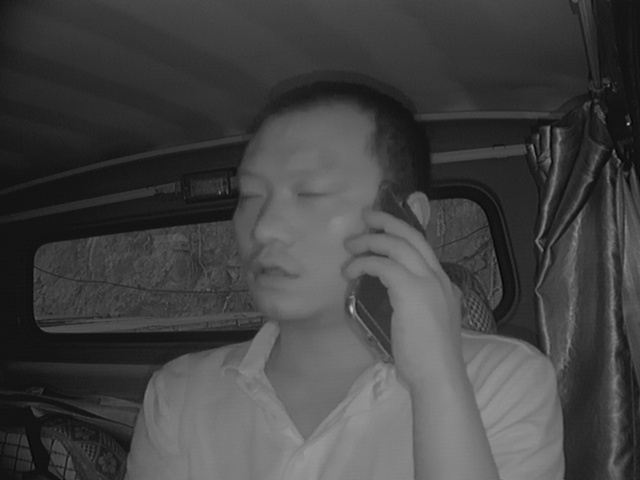hand: (345, 212, 462, 368)
